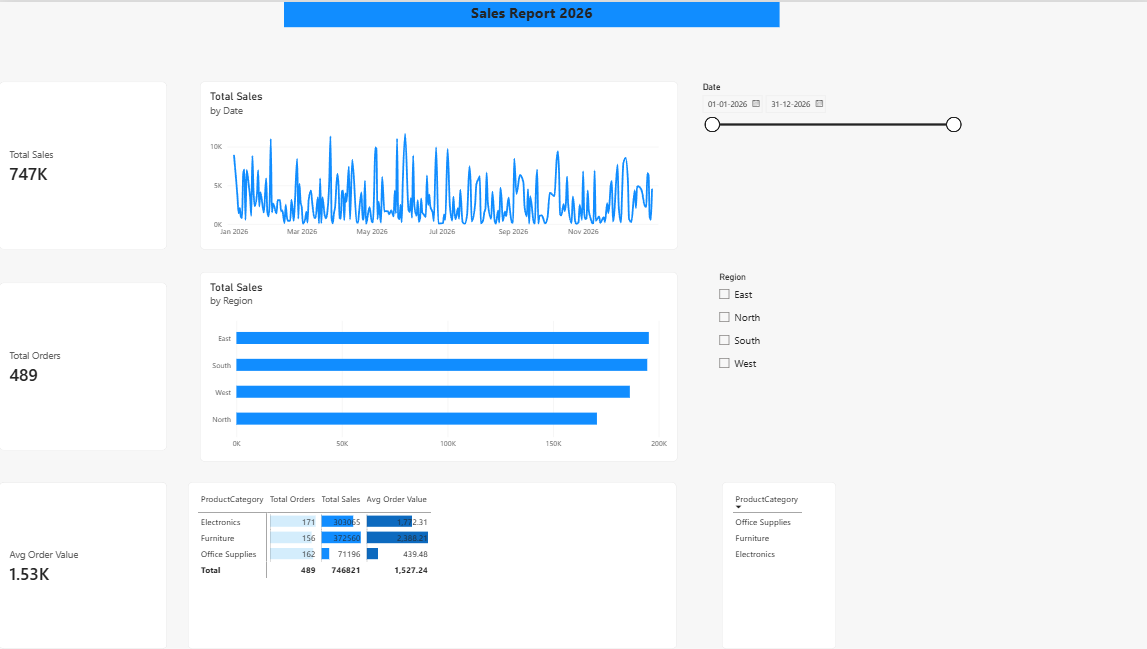

This screenshot's page, from the dashboard's own definition file:
{"tool":"powerbi","page":{"name":"Page 1","canvas":[1920,1080],"ordinal":0},"visuals":[{"type":"cardVisual","fields":{"Data":["sales_data.Total Sales"]},"box":[0,132,280,280],"z":0},{"type":"cardVisual","fields":{"Data":["sales_data.Total Orders"]},"box":[0,468,280,280],"z":1},{"type":"lineChart","fields":{"Category":["DimDate.Date"],"Y":["sales_data.Total Sales"]},"box":[334,132,796.7,280],"z":2},{"type":"cardVisual","fields":{"Data":["sales_data.Avg Order Value"]},"box":[0,800,280,280],"z":3},{"type":"clusteredBarChart","fields":{"Category":["DimRegion.Region"],"Y":["sales_data.Total Sales"]},"box":[334,450,796,316],"z":4},{"type":"pivotTable","fields":{"Rows":["DimProduct.ProductCategory"],"Values":["sales_data.Total Orders","sales_data.Total Sales","sales_data.Avg Order Value"]},"box":[316,800,814,280],"z":5},{"type":"tableEx","fields":{"Values":["DimProduct.ProductCategory"]},"box":[1204,800,190,280],"z":6},{"type":"slicer","fields":{"Values":["DimDate.Date"]},"box":[1164,132,442,218],"z":9},{"type":"slicer","fields":{"Values":["DimRegion.Region"]},"box":[1192,450,436,298],"z":10},{"type":"textbox","box":[474,0,826,42],"z":11}]}

Visuals, with their boxes in screenshot pixels (x1, y1, x2, y2), scaled from the page's 1920x1080 canvas onto the 1147x649 screenshot:
cardVisual - sales_data.Total Sales: bbox=(0, 79, 167, 248)
cardVisual - sales_data.Total Orders: bbox=(0, 281, 167, 449)
lineChart - DimDate.Date x sales_data.Total Sales: bbox=(200, 79, 675, 248)
cardVisual - sales_data.Avg Order Value: bbox=(0, 481, 167, 648)
clusteredBarChart - DimRegion.Region x sales_data.Total Sales: bbox=(200, 270, 675, 460)
pivotTable - DimProduct.ProductCategory x sales_data.Total Orders: bbox=(189, 481, 675, 648)
tableEx - DimProduct.ProductCategory: bbox=(719, 481, 833, 648)
slicer - DimDate.Date: bbox=(695, 79, 959, 210)
slicer - DimRegion.Region: bbox=(712, 270, 973, 449)
textbox: bbox=(283, 0, 777, 25)
